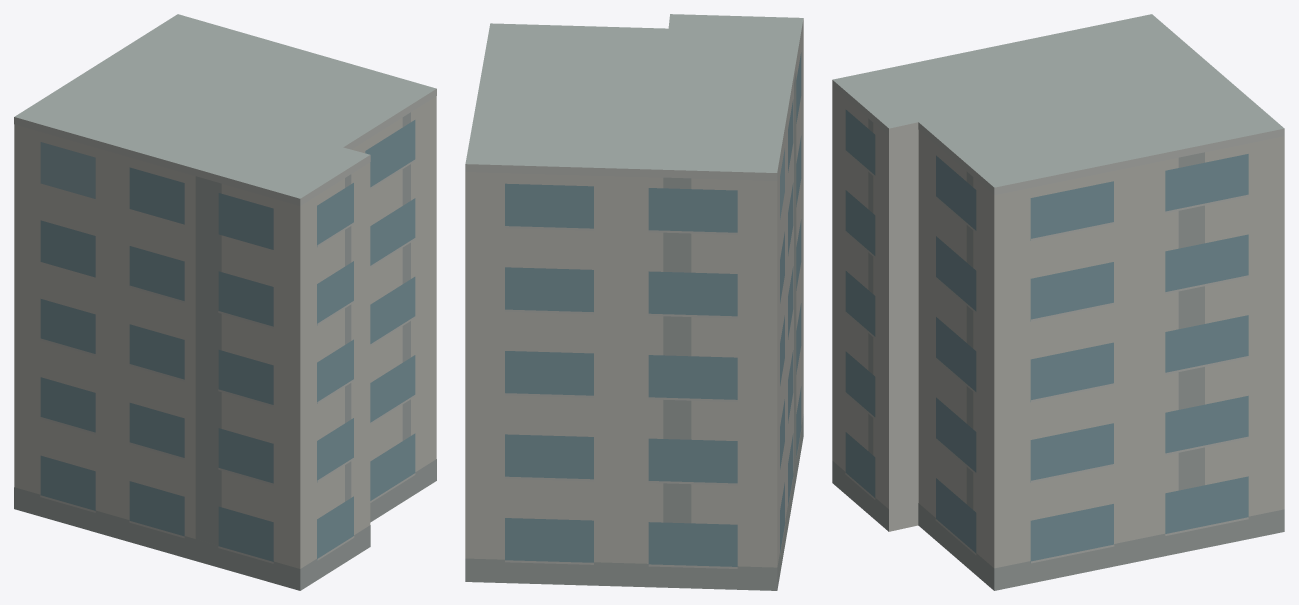
Rendered from survey-upis-32954044.glb.
3 renders of one model, left to right at view 1: azimuth 30°, elevation 25°; view 2: azimuth 150°, elevation 25°; view 3: azimuth 270°, elevation 25°, orthographic. The views are drawn at different scales.
Visible parts, largest first — view 1: survey-upis-32954044.tmp; view 2: survey-upis-32954044.tmp; view 3: survey-upis-32954044.tmp.
Part boxes in pixels (<box>): survey-upis-32954044.tmp: <box>14,14,436,590</box>; survey-upis-32954044.tmp: <box>465,14,803,590</box>; survey-upis-32954044.tmp: <box>832,14,1284,590</box>.
Size of the model in its own units: 12.11 by 13.1 by 13.33.
